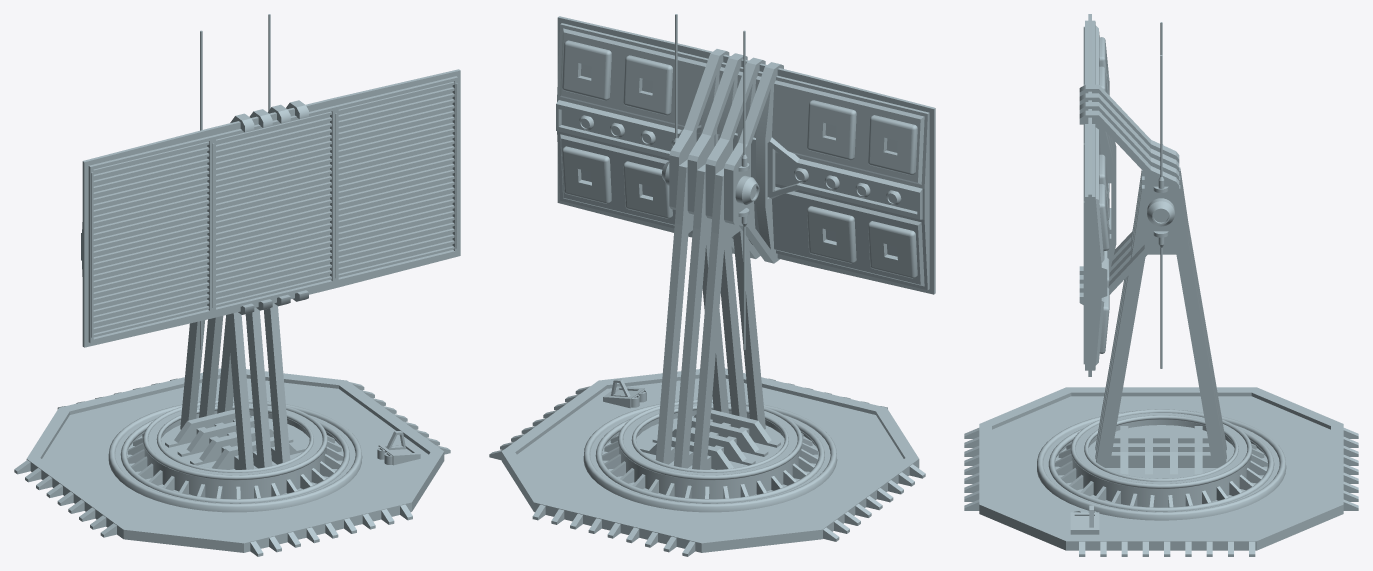
File: Radar 7 fbx.FBX
The picture shows the model from 3 angles, left to right: view 1: azimuth 30°, elevation 25°; view 2: azimuth 150°, elevation 25°; view 3: azimuth 270°, elevation 25°; orthographic projection.
Parts seen in each view (by area): view 1: Radar 7; view 2: Radar 7; view 3: Radar 7.
Part boxes in pixels (left/top/right/bottom): Radar 7: left=14, top=14, right=460, bottom=556; Radar 7: left=489, top=14, right=935, bottom=556; Radar 7: left=964, top=14, right=1358, bottom=556.
Size of the model in its own units: 138 by 155 by 127.
